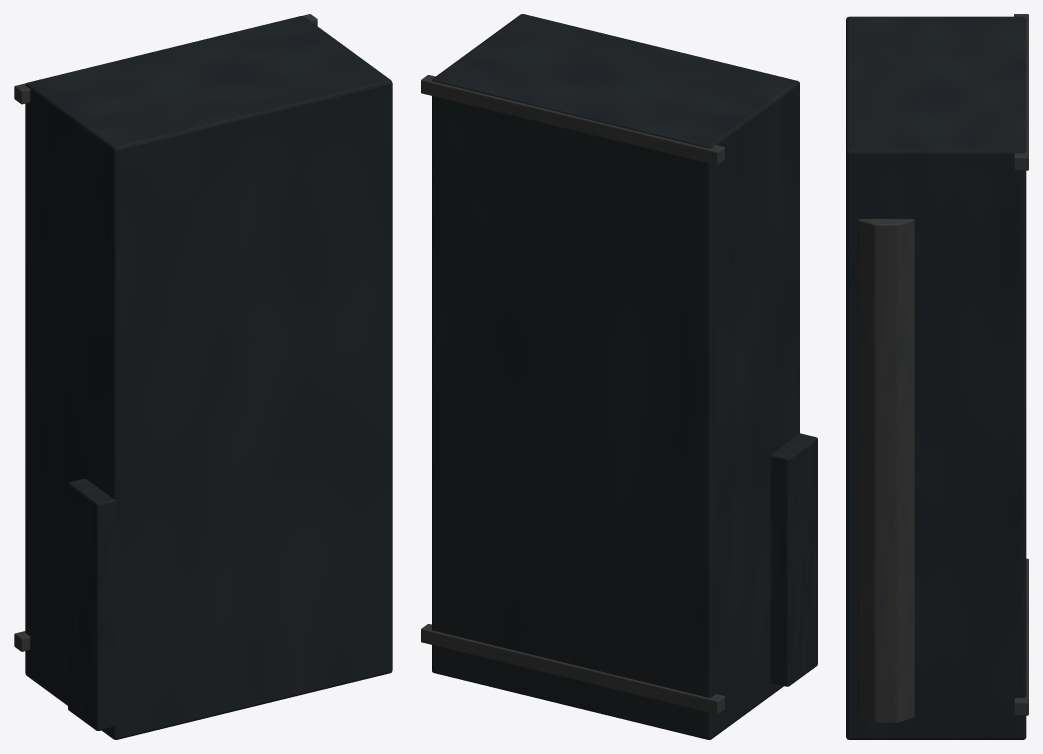
File: project_cabinet_v3.glb
3 views of the same model, side by side, from view 1: azimuth 30°, elevation 25°; view 2: azimuth 150°, elevation 25°; view 3: azimuth 270°, elevation 25° (orthographic).
Visible parts, largest first — view 1: Rack, Trunk; view 2: Rack, Trunk, RailT, RailB; view 3: Rack, Cool, RailT, RailB.
Boxes of the visible parts, x1,y1,x2,y2 form: Rack: (25, 16, 392, 739); Trunk: (68, 478, 117, 730); Rack: (432, 14, 799, 739); Trunk: (771, 433, 817, 686); RailT: (421, 75, 724, 165); RailB: (421, 624, 724, 714); Rack: (846, 16, 1026, 739); Cool: (857, 219, 914, 723); RailT: (1014, 14, 1028, 170); RailB: (1014, 558, 1028, 715).
Size of the model in its own units: 3.53 by 6.5 by 1.83.
Materials: 3 (3 with a texture image).
